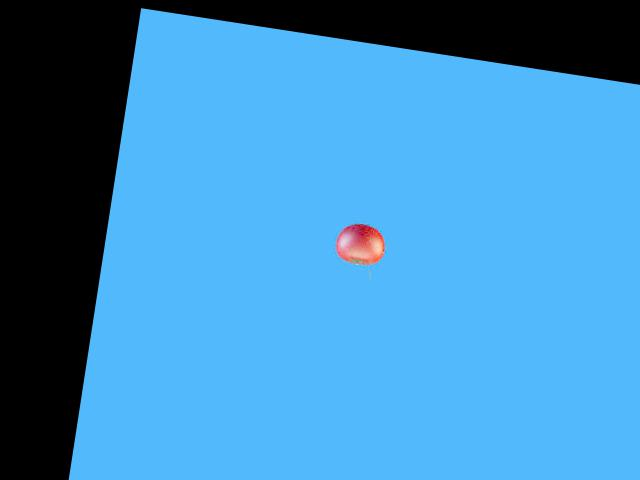tomato: (332, 220, 387, 267)
